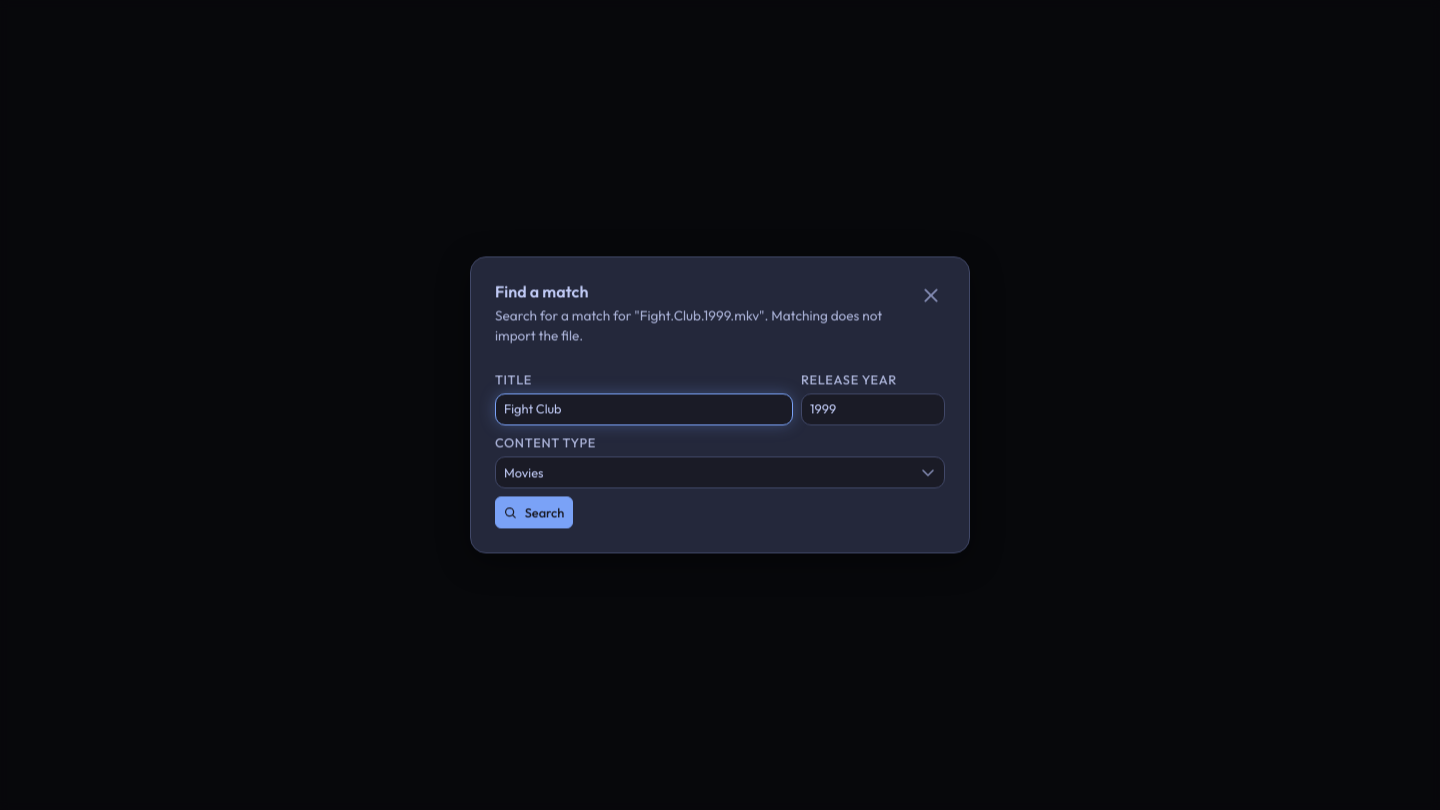
Test: ManualMatchDialog › Search_ShowsProviderCandidates_WhenMatchesReturn
The image size is (1440, 810).
Click the button "Search".
click(534, 513)  # box [495,497,573,529]
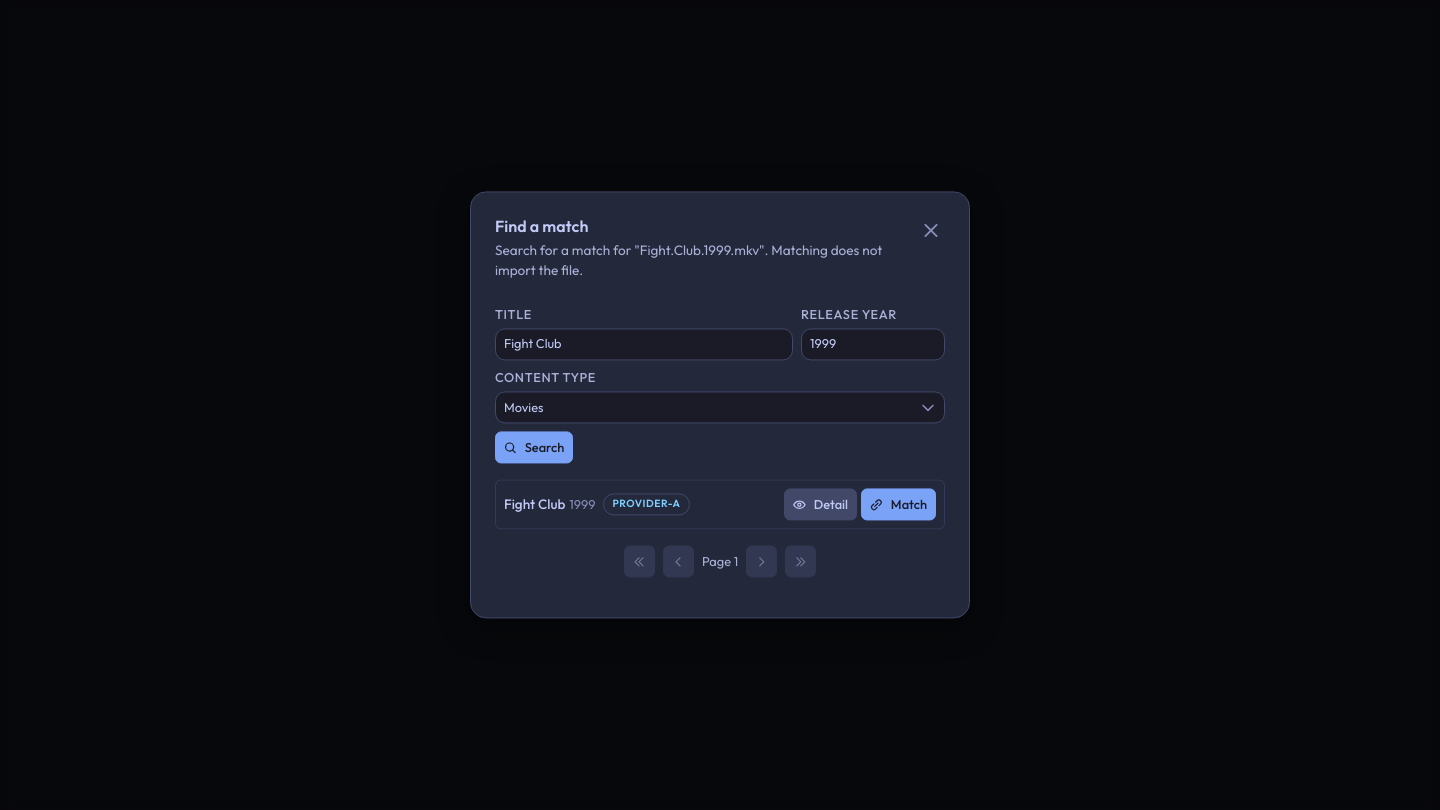
Expected: the list with test id "manual-match-dialog__results" is shown, [495,480,945,530]
Expected: the list with test id "manual-match-dialog__results" shows "Fight Club", [504,495,565,513]
Expected: the list with test id "manual-match-dialog__results" shows "provider-a", [612,498,681,511]
